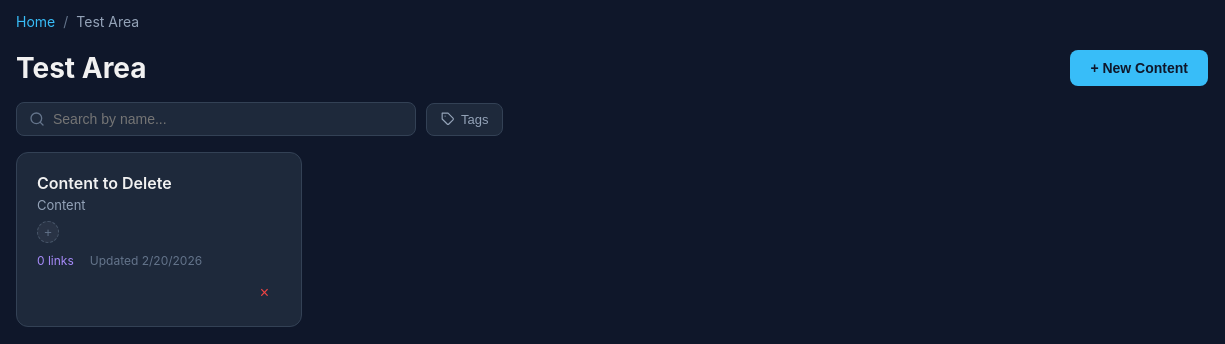
Test: AreaPage › Delete Content › should delete content when clicking delete button and confirming
The width and height of the screenshot is (1225, 344).
Click the button "×".
click(264, 293)  # box 248,280 -> 281,306
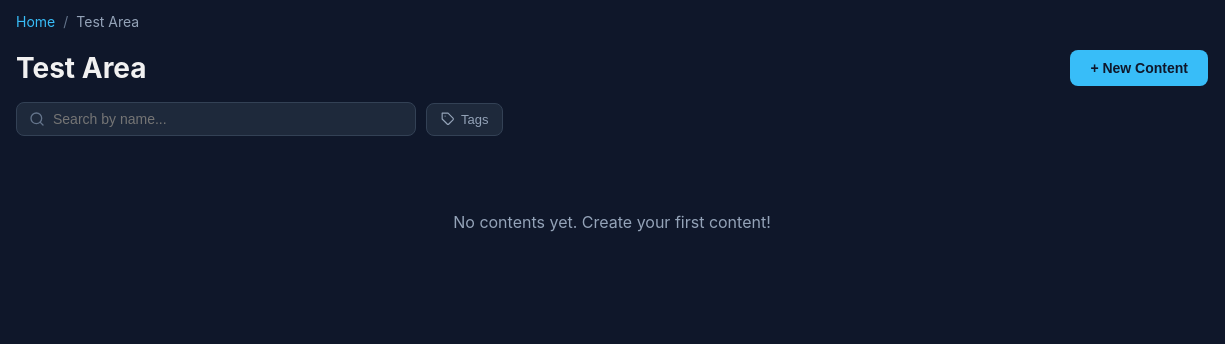
Check: the heading "Content to Delete" is gone
